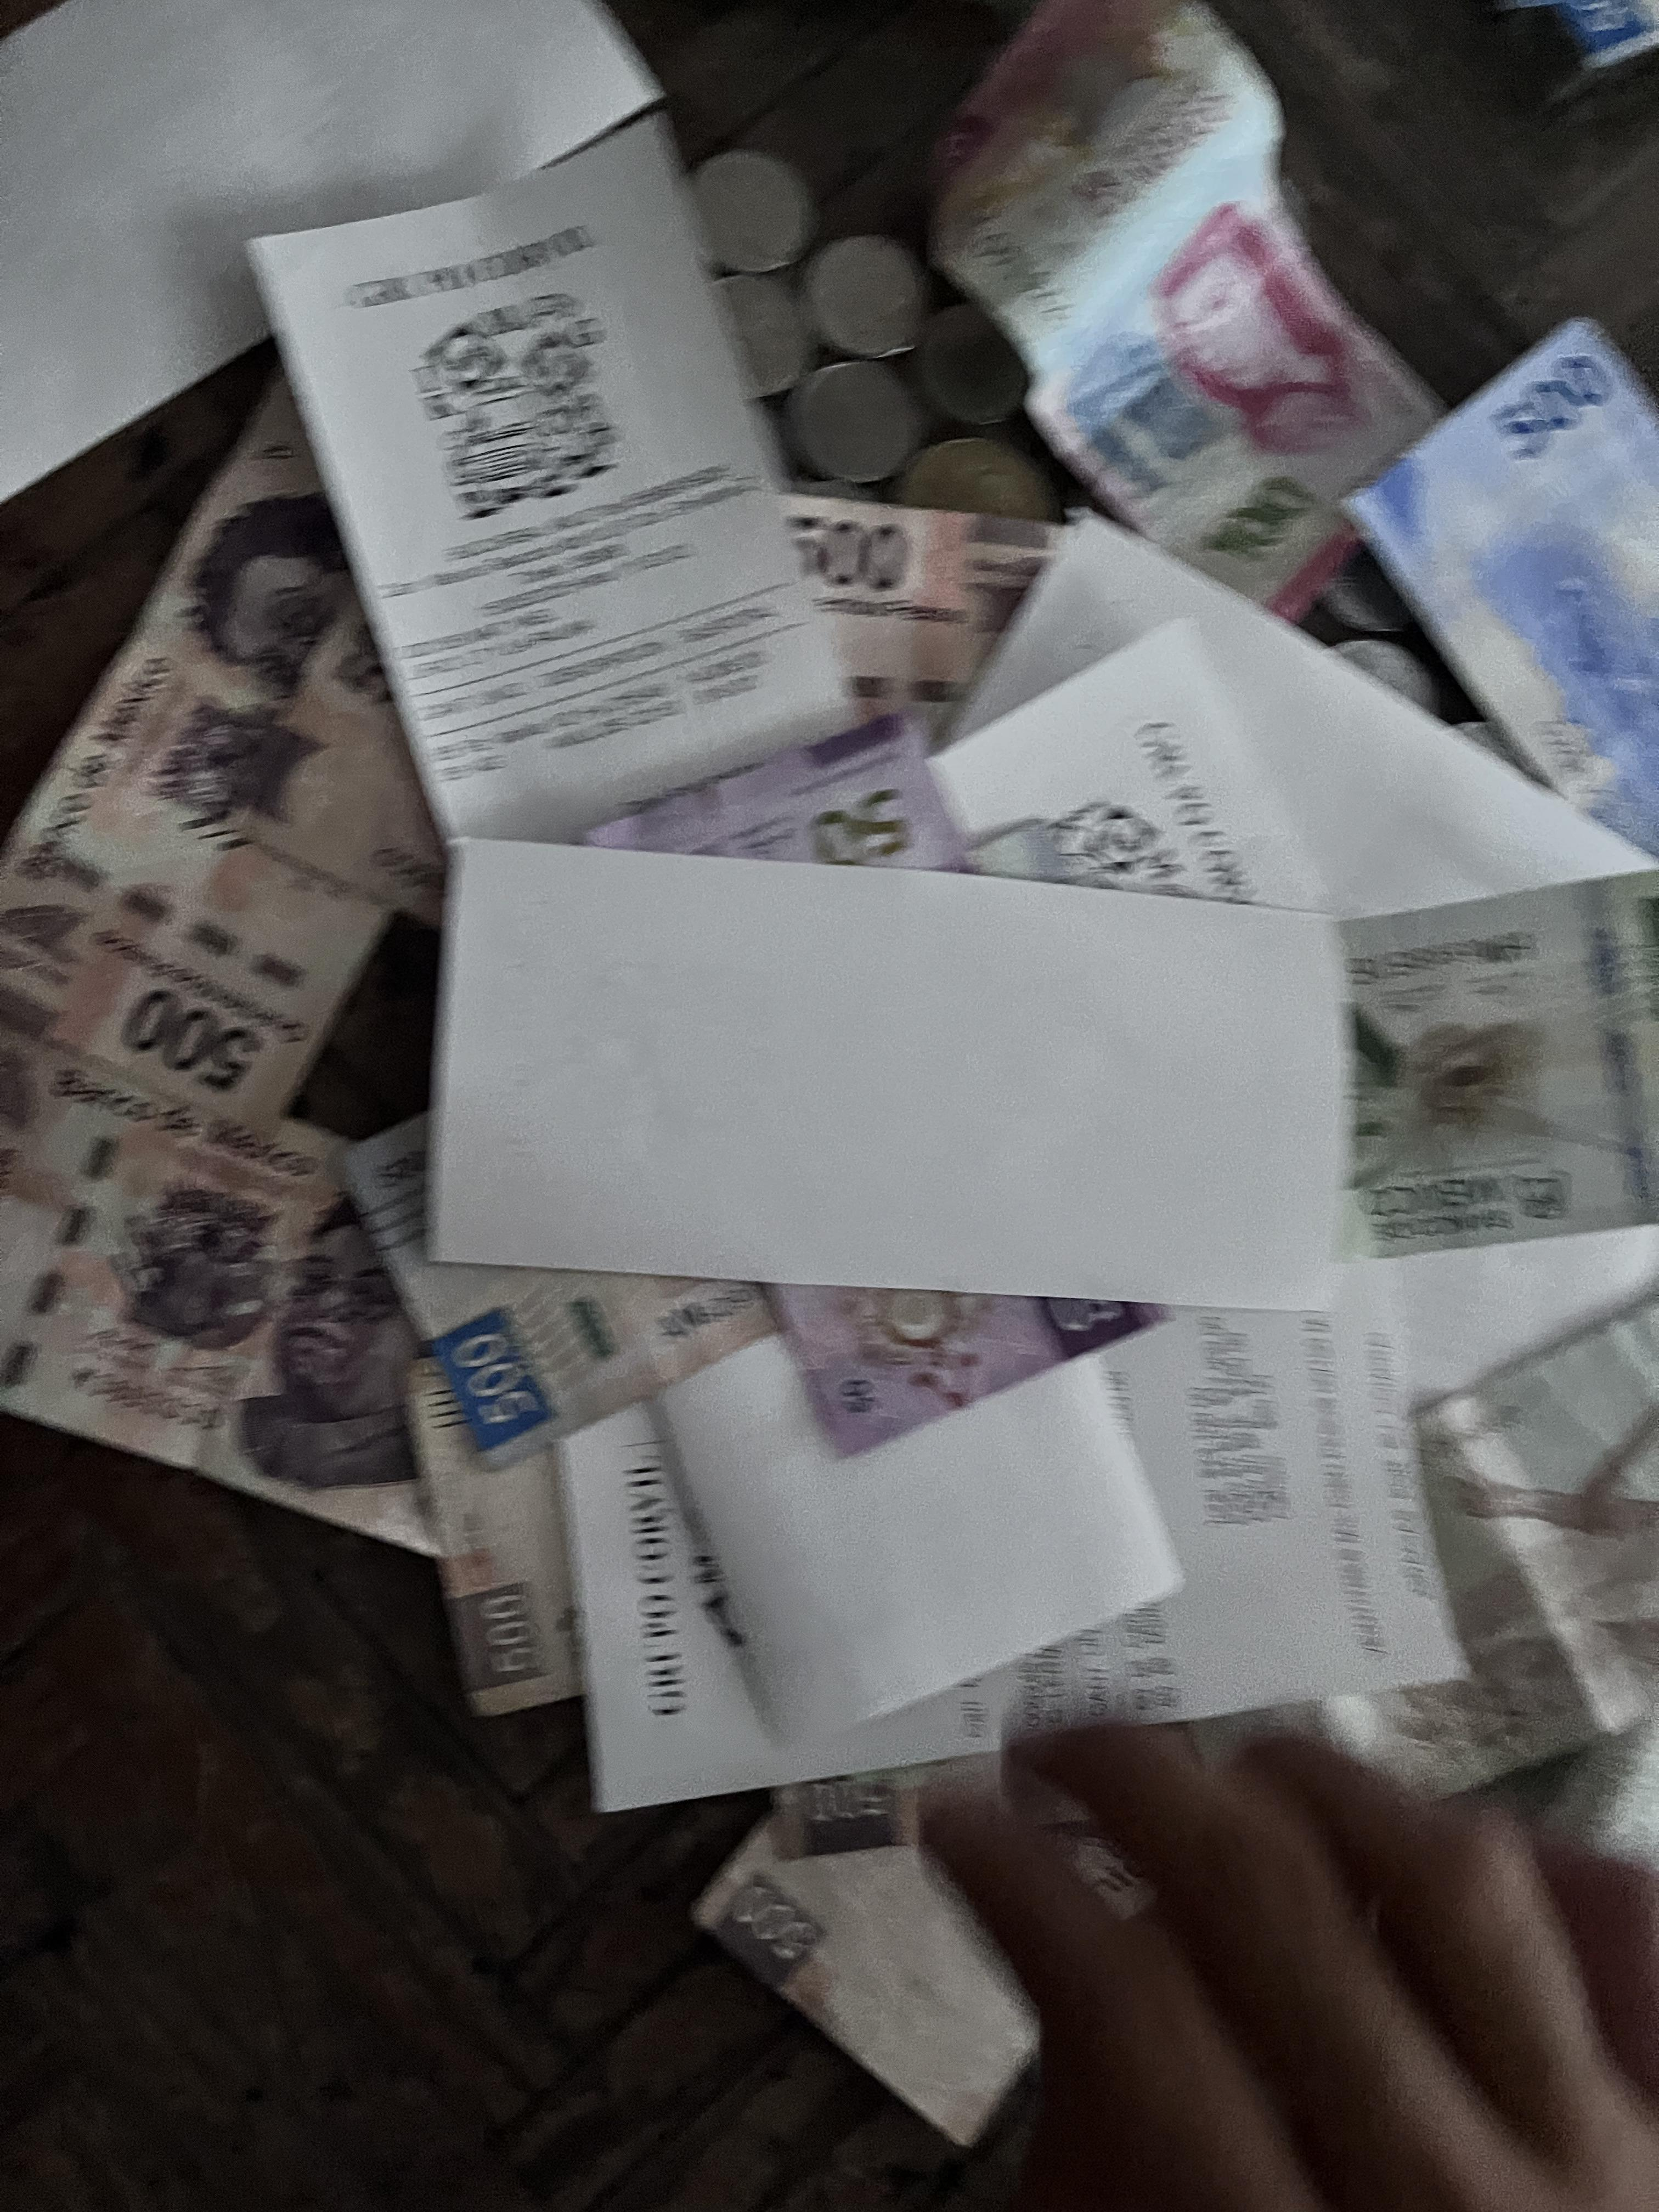100: (877, 0, 1439, 669)
200: (1317, 1270, 1659, 1862), (1229, 850, 1659, 1294)
50: (544, 693, 1201, 1482)
500: (0, 272, 681, 1155), (0, 1003, 566, 1573), (647, 1752, 1105, 2165), (369, 1352, 697, 1731), (694, 458, 1107, 719)
500 nuevo: (1342, 254, 1659, 897)
